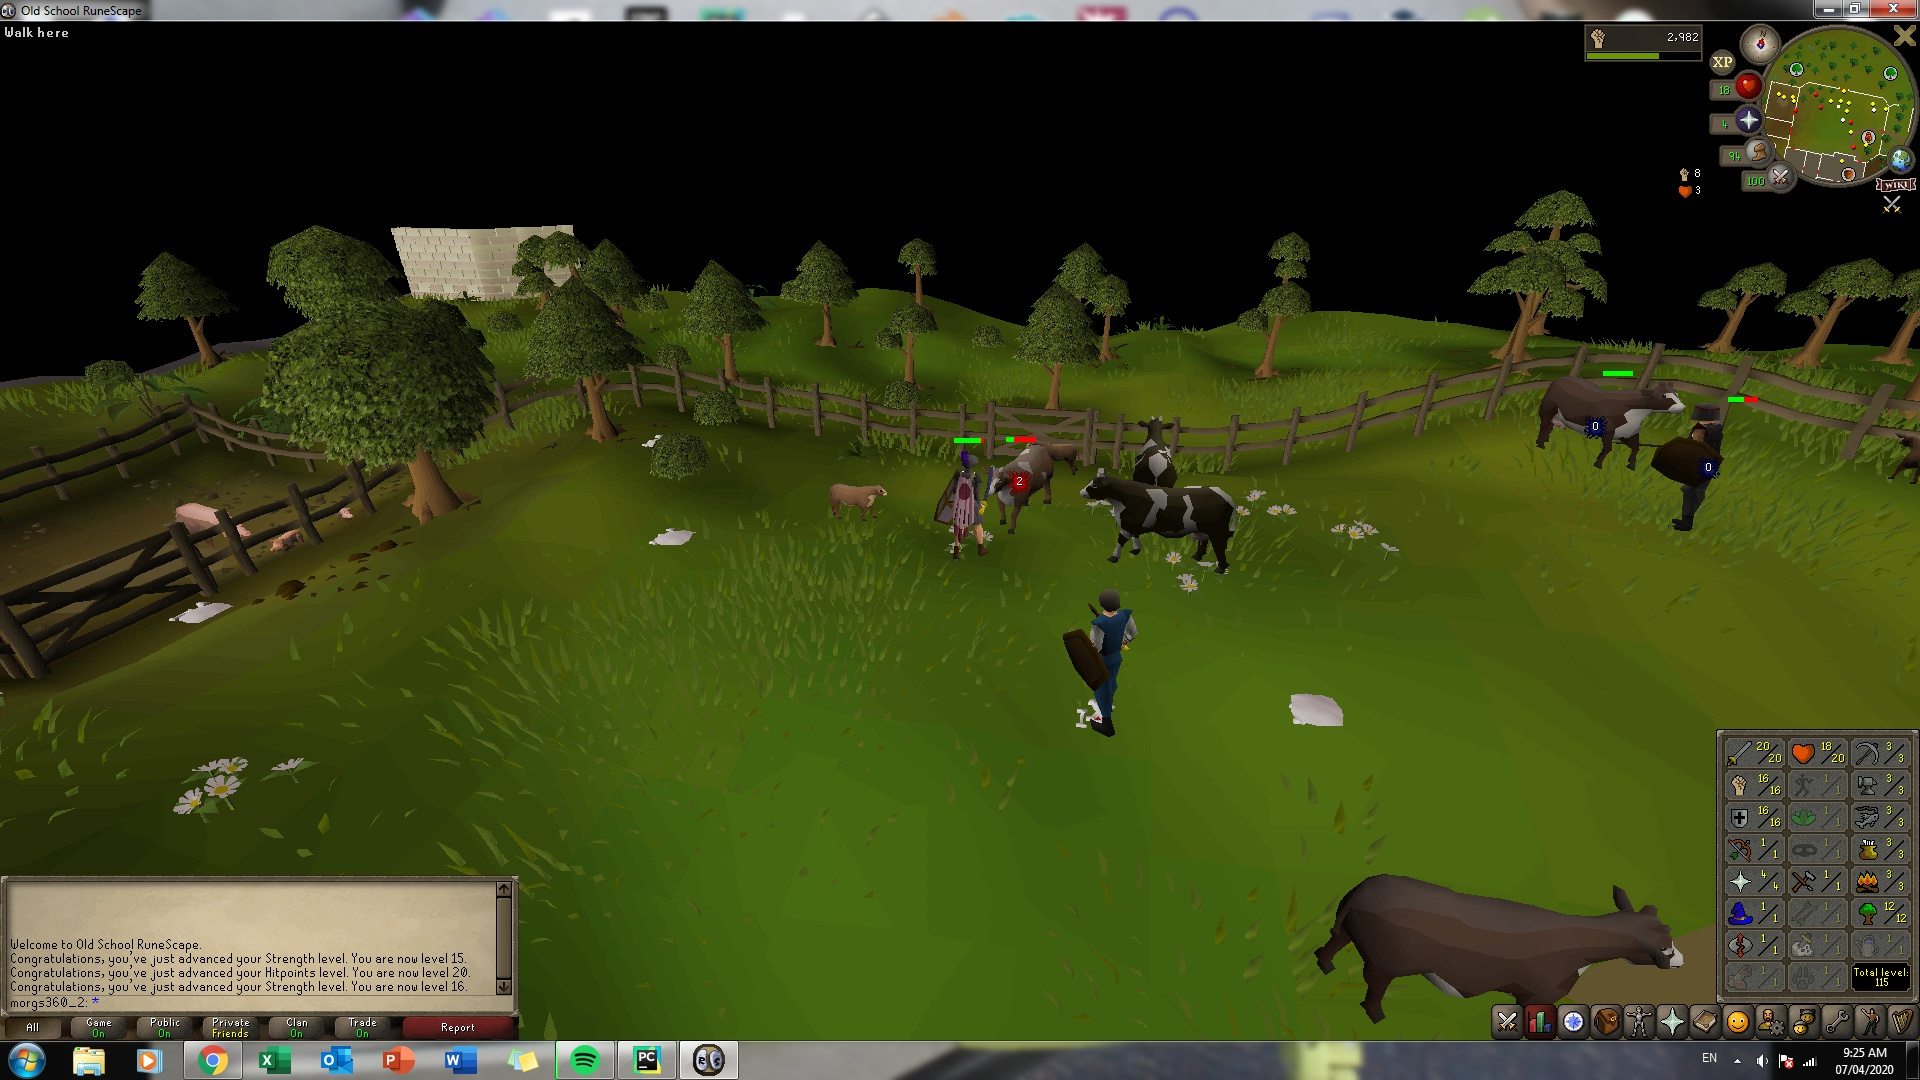cow: (1319, 862, 1685, 1000), (1073, 467, 1234, 576), (1528, 373, 1687, 473), (981, 442, 1062, 535), (1120, 411, 1185, 489)
